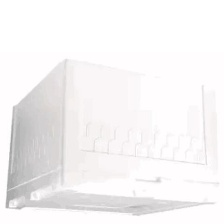foam_box: (0, 55, 224, 219)
